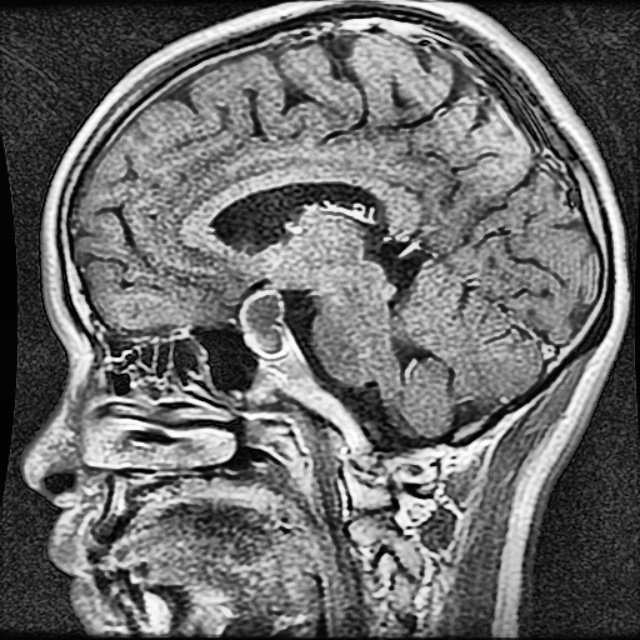Pituitary: (239, 292, 290, 357)
